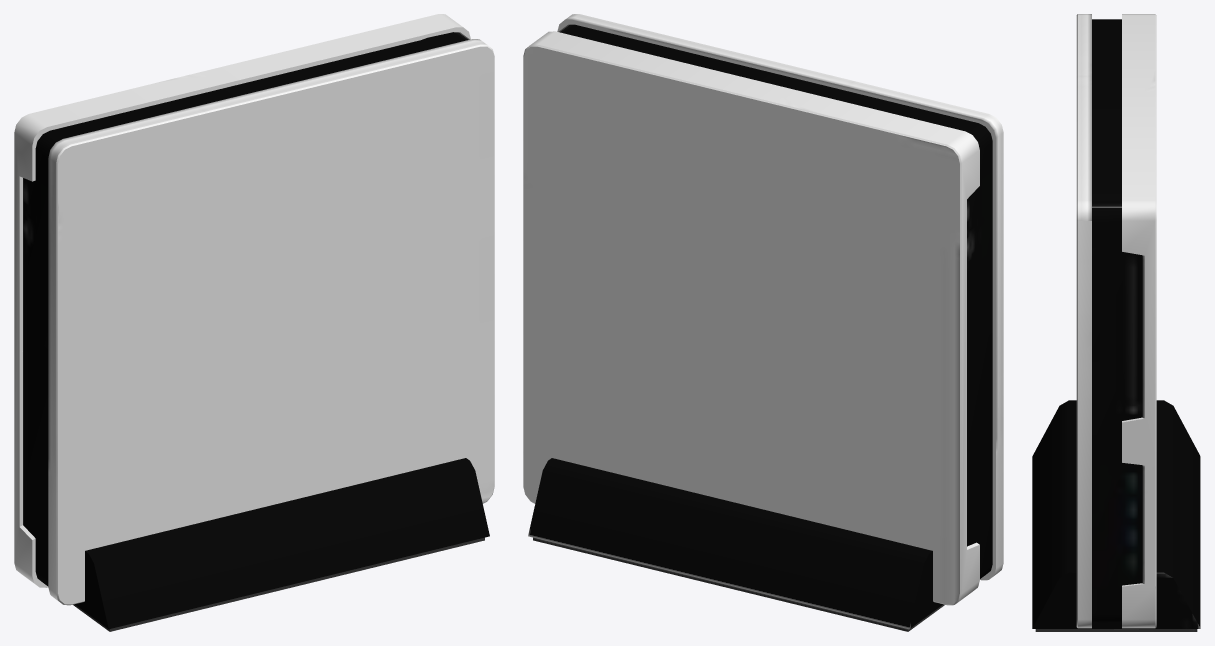
Rendered from Console.glb.
3 renders of one model, left to right at view 1: azimuth 30°, elevation 25°; view 2: azimuth 150°, elevation 25°; view 3: azimuth 270°, elevation 25°, orthographic. The views are drawn at different scales.
Visible parts, largest first — view 1: Console; view 2: Console; view 3: Console.
Boxes of the visible parts, x1,y1,x2,y2 form: Console: (14, 14, 494, 631); Console: (523, 14, 1003, 631); Console: (1032, 14, 1200, 631).
Bounding box in the file's own units: 1.05 × 1.09 × 0.3787.
1 material, 1 textured.
